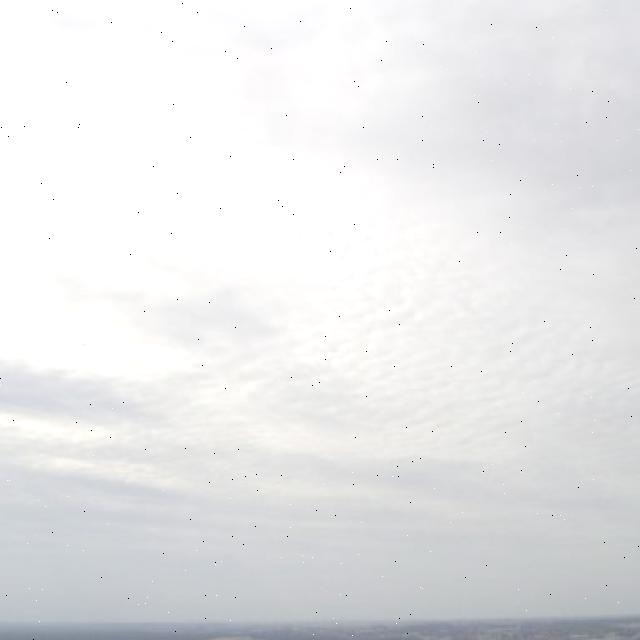Ac: (1, 85, 640, 527)
